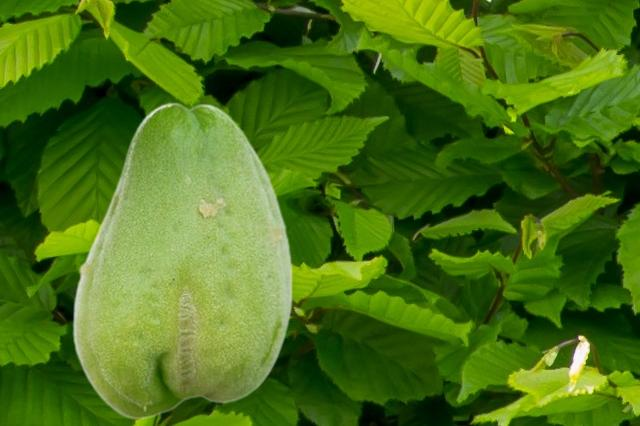sayote: (71, 101, 292, 418)
